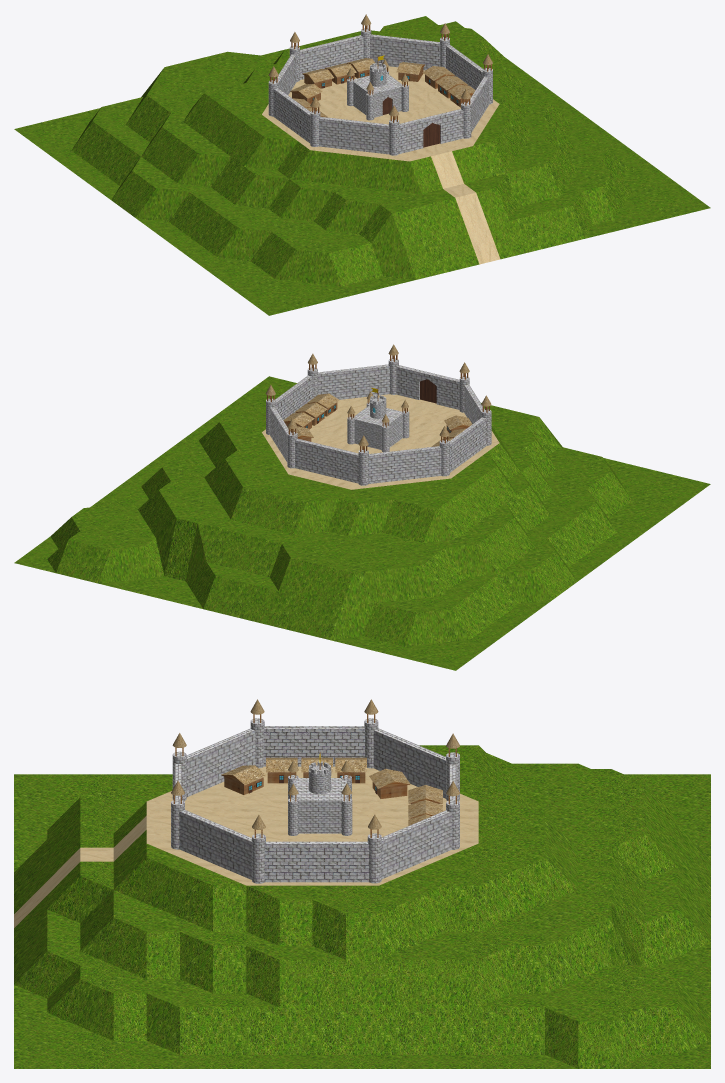
File: castle.dae
3 views of the same model, one above another, from view 1: azimuth 30°, elevation 25°; view 2: azimuth 150°, elevation 25°; view 3: azimuth 270°, elevation 25° (orthographic). The views are drawn at different scales.
Parts seen in each view (by area): view 1: Plane, Cube.006, Cube.002, Cube, Cube.005, Cube.001, Cube.007, Cube.003, Cube.004, Cube.008; view 2: Plane, Cube.008, Cube.004, Cube.001, Cube, Cube.005, Cube.007, Cube.003, Cube.002, Cube.006; view 3: Plane, Cube.003, Cube.007, Cube.004, Cube.002, Cube, Cube.008, Cube.006, Cube.020, Cube.018, Cylinder.003, Cylinder.004 (+7 smaller).
Part boxes in pixels (<box>): Plane: <box>14,16,710,315</box>; Cube.006: <box>319,116,389,154</box>; Cube.002: <box>370,34,440,70</box>; Cube: <box>353,55,401,117</box>; Cube.005: <box>399,109,463,153</box>; Cube.001: <box>300,35,363,79</box>; Cube.007: <box>273,88,310,143</box>; Cube.003: <box>446,44,482,89</box>; Cube.004: <box>468,76,489,132</box>; Cube.008: <box>275,54,296,94</box>; Plane: <box>14,376,710,670</box>; Cube.008: <box>368,446,441,483</box>; Cube.004: <box>318,364,389,399</box>; Cube.001: <box>295,438,358,483</box>; Cube: <box>354,387,402,449</box>; Cube.005: <box>396,365,459,409</box>; Cube.007: <box>449,417,486,472</box>; Cube.003: <box>275,375,312,419</box>; Cube.002: <box>270,407,290,461</box>; Cube.006: <box>464,384,484,423</box>; Plane: <box>14,745,710,1068</box>; Cube.003: <box>264,841,369,882</box>; Cube.007: <box>263,726,364,766</box>; Cube.004: <box>179,809,251,879</box>; Cube.002: <box>381,810,451,879</box>; Cube: <box>293,752,346,833</box>; Cube.008: <box>373,728,445,798</box>; Cube.006: <box>186,728,255,796</box>; Cube.020: <box>221,765,266,794</box>; Cube.018: <box>369,768,410,798</box>; Cylinder.003: <box>367,814,381,883</box>; Cylinder.004: <box>252,815,265,883</box>.
Size of the model in its own units: 200 by 200 by 53.5.
Materials: 8 (6 with a texture image).
